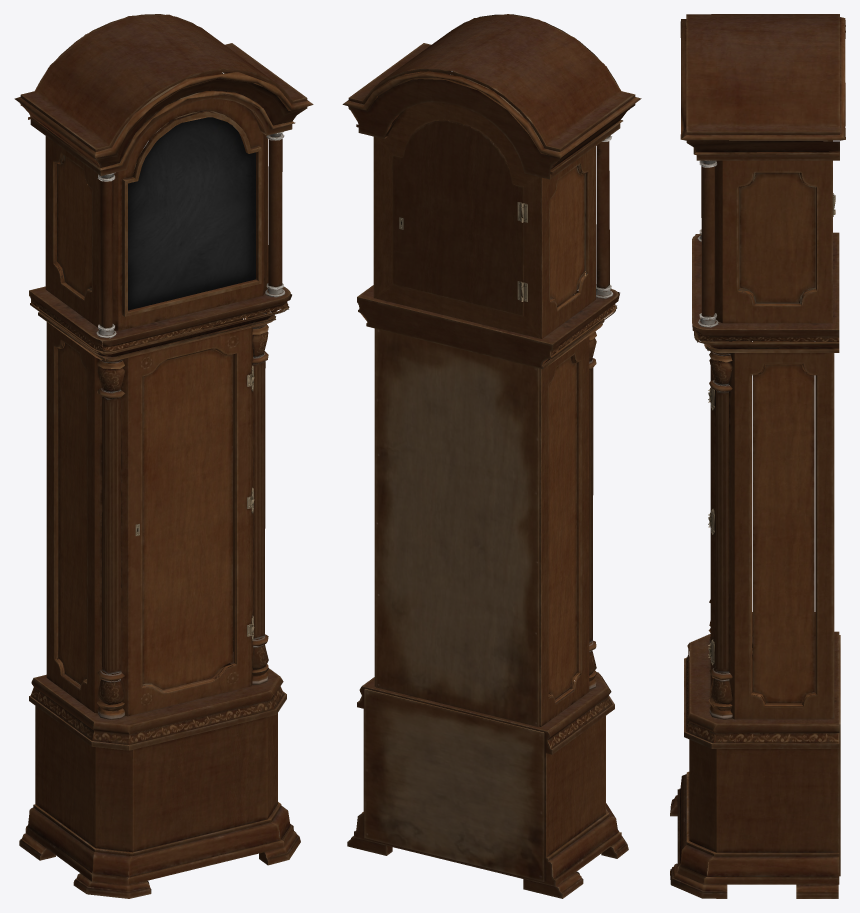
The model's file is vintage_grandfather_clock_01.glb.
The picture shows the model from 3 angles, left to right: view 1: azimuth 30°, elevation 25°; view 2: azimuth 150°, elevation 25°; view 3: azimuth 270°, elevation 25°; orthographic projection. The views are drawn at different scales.
Parts seen in each view (by area): view 1: vintage_grandfather_clock_01_Body; view 2: vintage_grandfather_clock_01_Body; view 3: vintage_grandfather_clock_01_Body.
Boxes of the visible parts, x1=… form: vintage_grandfather_clock_01_Body: x1=14, y1=14, x2=313, y2=898; vintage_grandfather_clock_01_Body: x1=342, y1=14, x2=641, y2=898; vintage_grandfather_clock_01_Body: x1=670, y1=14, x2=845, y2=898.
Bounding box in the file's own units: 0.6257 × 2.19 × 0.4267.
2 materials, 2 textured.
